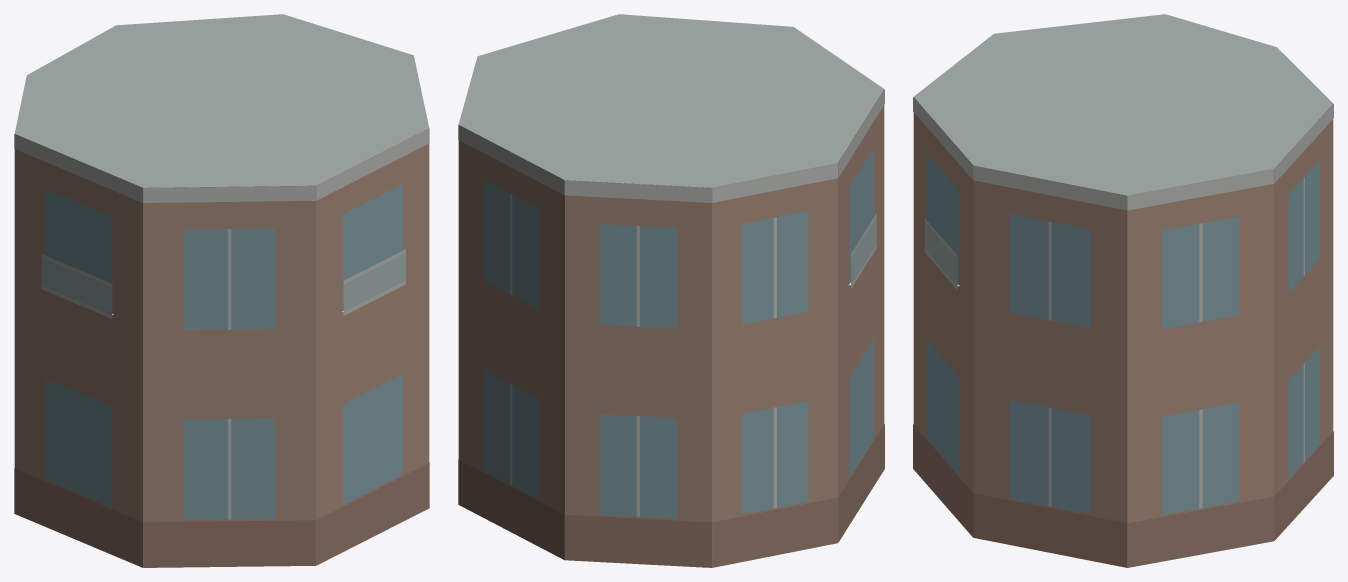
The model's file is survey-upis-32634799.glb.
3 renders of one model, left to right at view 1: azimuth 30°, elevation 25°; view 2: azimuth 150°, elevation 25°; view 3: azimuth 270°, elevation 25°, orthographic. The views are drawn at different scales.
Visible parts, largest first — view 1: survey-upis-32634799.tmp; view 2: survey-upis-32634799.tmp; view 3: survey-upis-32634799.tmp.
Part boxes in pixels (left/top/right/bottom): survey-upis-32634799.tmp: left=14, top=14, right=429, bottom=567; survey-upis-32634799.tmp: left=458, top=14, right=884, bottom=567; survey-upis-32634799.tmp: left=913, top=14, right=1333, bottom=567.
Size of the model in its own units: 6.39 by 6.1 by 6.25.
